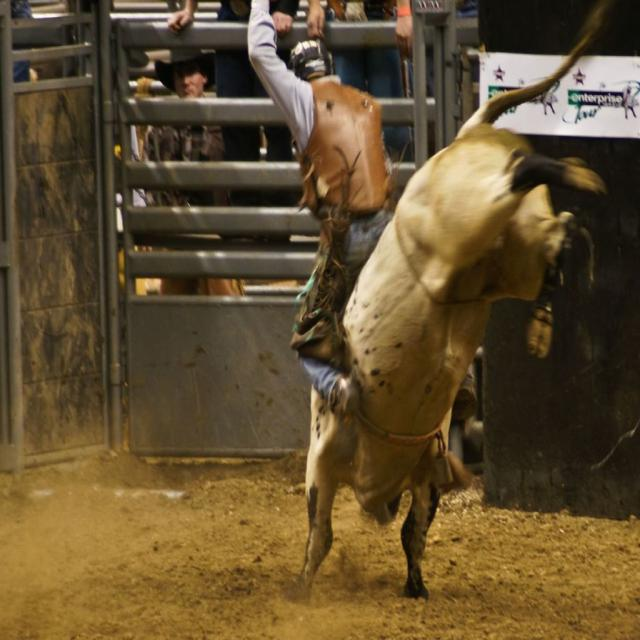Bull: (292, 2, 606, 608)
